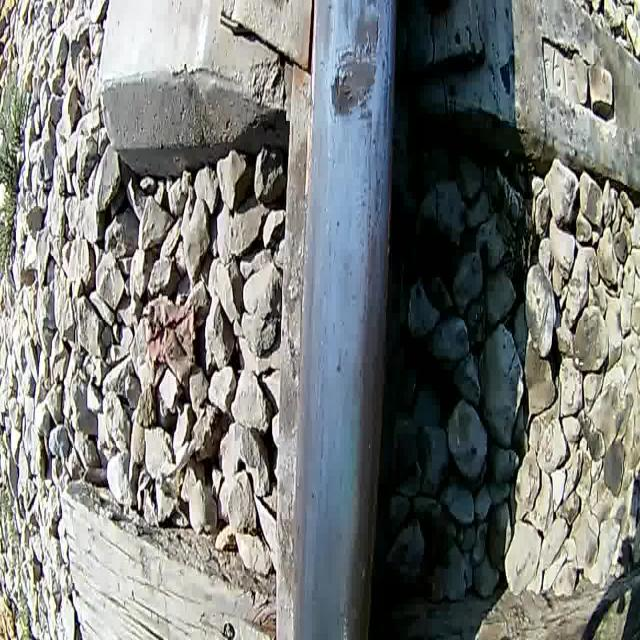Cracks: (379, 0, 393, 137)
Squats: (327, 0, 383, 125)
